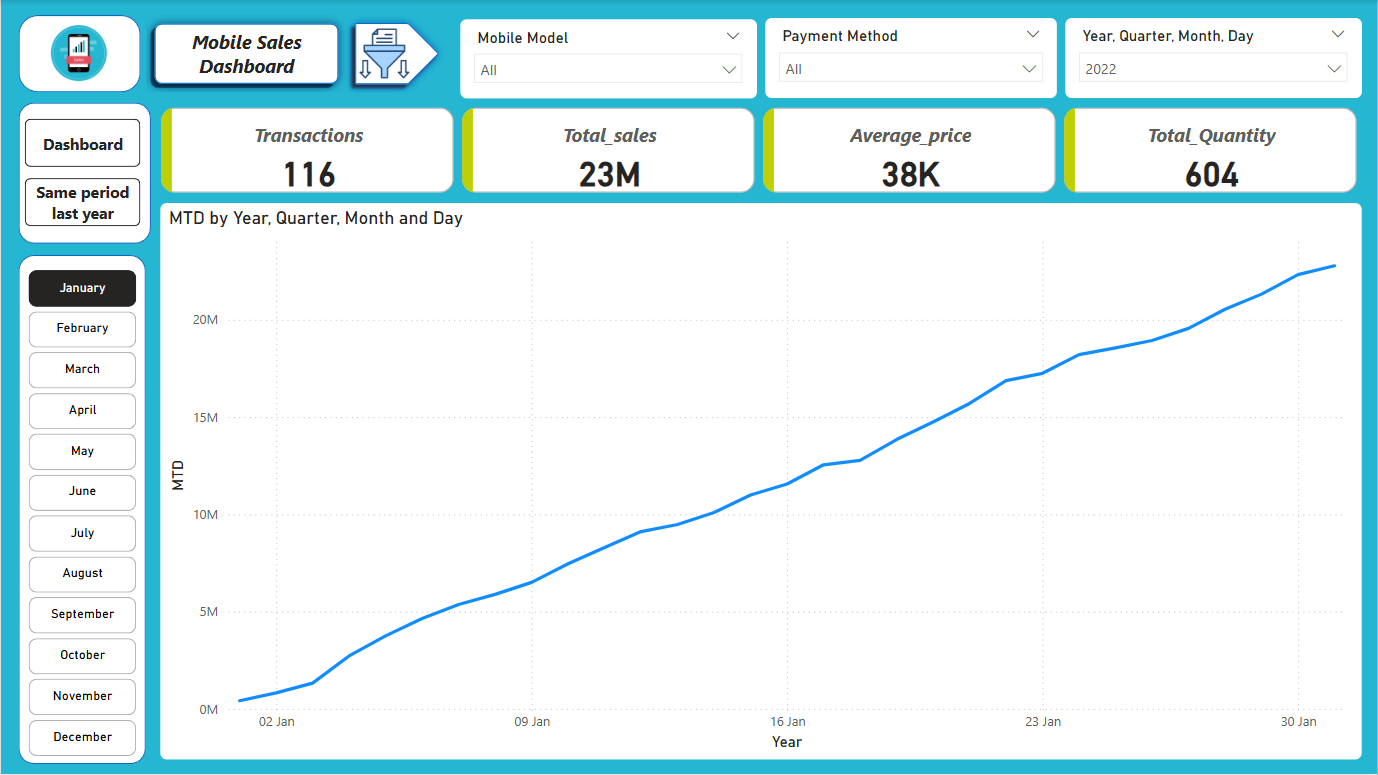

What the dashboard file says about the page in this screenshot:
{"tool":"powerbi","page":{"name":"MTD","canvas":[1280,720],"ordinal":1},"visuals":[{"type":"shape","box":[16.3,14,114,72.1],"z":0,"group":"g1"},{"type":"shape","box":[16.3,95.5,123.5,131.6],"z":0},{"type":"image","box":[38.6,19,68.1,62.1],"z":1000,"group":"g1"},{"type":"shape","box":[16.3,237.2,118.6,473.3],"z":1000},{"type":"advancedSlicerVisual","fields":{"Values":["Custom_Calendar.Date.Variation.Date Hierarchy.Month"]},"box":[20.9,246.5,110.5,473.3],"z":2000},{"type":"cardVisual","fields":{"Data":["Sales_data.Transactions","Sales_data.Total_sales","Sales_data.Average_price","Sales_data.Total_Quantity"]},"box":[144.2,95.3,1125.6,89.5],"z":3000},{"type":"group","id":"g1","title":"Group 1","box":[16.3,14,114,72.1],"z":4000},{"type":"slicer","fields":{"Values":["Sales_data.Mobile Model"]},"box":[423.3,14,283.7,81.4],"z":5000},{"type":"slicer","fields":{"Values":["Sales_data.Payment Method"]},"box":[707,12.8,279.1,82.6],"z":6000},{"type":"slicer","fields":{"Values":["Custom_Calendar.Date.Variation.Date Hierarchy.Year","Custom_Calendar.Date.Variation.Date Hierarchy.Quarter","Custom_Calendar.Date.Variation.Date Hierarchy.Month","Custom_Calendar.Date.Variation.Date Hierarchy.Day"]},"box":[986,12.8,283.7,82.6],"z":7000},{"type":"textbox","box":[325.6,40.7,61.6,29.1],"z":8000},{"type":"shape","box":[322.1,14,93,72.1],"z":9000},{"type":"image","box":[291.9,20.9,130.2,58.1],"z":10000},{"type":"shape","box":[134.9,14,187.2,72.1],"z":11000},{"type":"lineChart","fields":{"Category":["Custom_Calendar.Date.Variation.Date Hierarchy.Year","Custom_Calendar.Date.Variation.Date Hierarchy.Quarter","Custom_Calendar.Date.Variation.Date Hierarchy.Month","Custom_Calendar.Date.Variation.Date Hierarchy.Day"],"Y":["Sales_data.MTD"]},"box":[144.4,185.2,1125.3,525.4],"z":11001},{"type":"pageNavigator","box":[22.1,110.7,108.3,100.2],"z":11002}]}

Visuals, with their boxes in screenshot pixels (x1, y1, x2, y2), scaled from the page's 1280x720 canvas onto the 1378x775 screenshot:
shape: select_region(18, 15, 140, 93)
shape: select_region(18, 103, 151, 244)
image: select_region(42, 20, 115, 87)
shape: select_region(18, 255, 145, 765)
advancedSlicerVisual - Custom_Calendar.Date.Variation.Date Hierarchy.Month: select_region(23, 265, 141, 774)
cardVisual - Sales_data.Transactions x Sales_data.Total_sales: select_region(155, 103, 1367, 199)
"Group 1" group: select_region(18, 15, 140, 93)
slicer - Sales_data.Mobile Model: select_region(456, 15, 761, 103)
slicer - Sales_data.Payment Method: select_region(761, 14, 1062, 103)
slicer - Custom_Calendar.Date.Variation.Date Hierarchy.Year x Custom_Calendar.Date.Variation.Date Hierarchy.Quarter: select_region(1061, 14, 1367, 103)
textbox: select_region(351, 44, 417, 75)
shape: select_region(347, 15, 447, 93)
image: select_region(314, 22, 454, 85)
shape: select_region(145, 15, 347, 93)
lineChart - Custom_Calendar.Date.Variation.Date Hierarchy.Year x Custom_Calendar.Date.Variation.Date Hierarchy.Quarter: select_region(155, 199, 1367, 765)
pageNavigator: select_region(24, 119, 140, 227)
